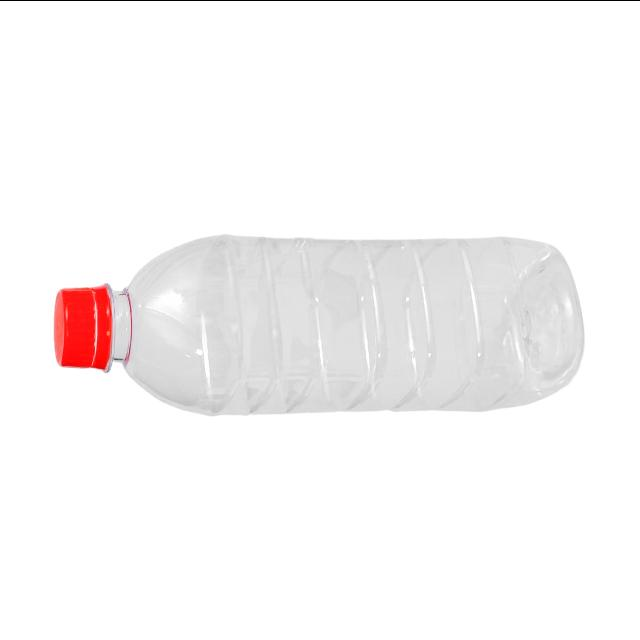bottle: (55, 234, 582, 414)
